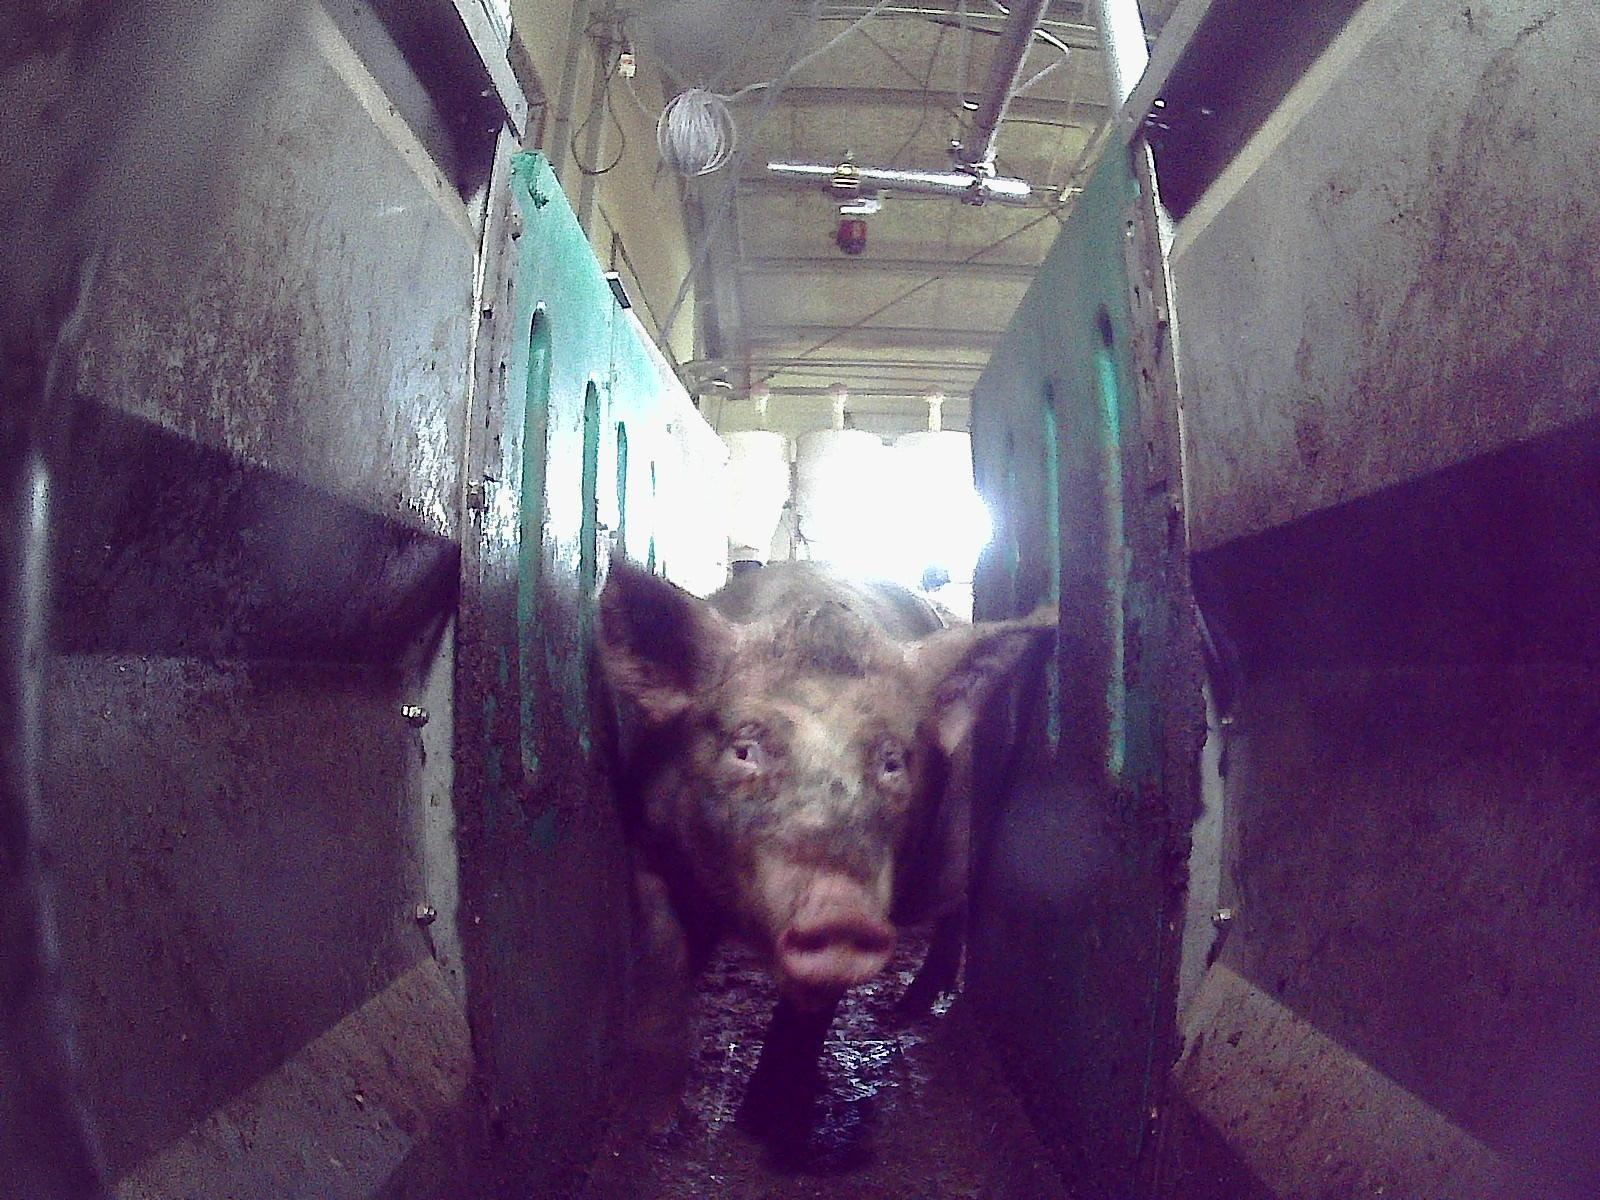Face: (676, 645, 917, 995)
